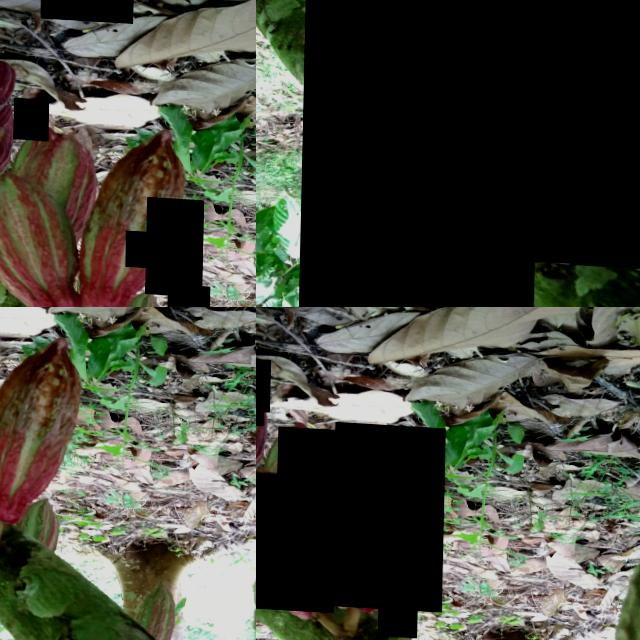Fitoftora: (333, 418, 446, 607)
Monilia: (301, 0, 543, 307)
Sana: (534, 0, 640, 264), (256, 467, 339, 608), (277, 423, 351, 536), (147, 193, 205, 291), (380, 584, 419, 633), (41, 0, 134, 19), (14, 95, 50, 138), (169, 279, 211, 306), (127, 226, 156, 264), (256, 355, 271, 409), (256, 397, 264, 422)
